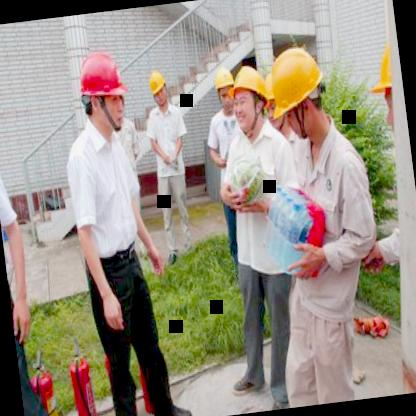helmet: (263, 38, 334, 140), (68, 43, 136, 143), (361, 29, 401, 160), (226, 60, 275, 136), (208, 63, 240, 118), (145, 69, 172, 109)
